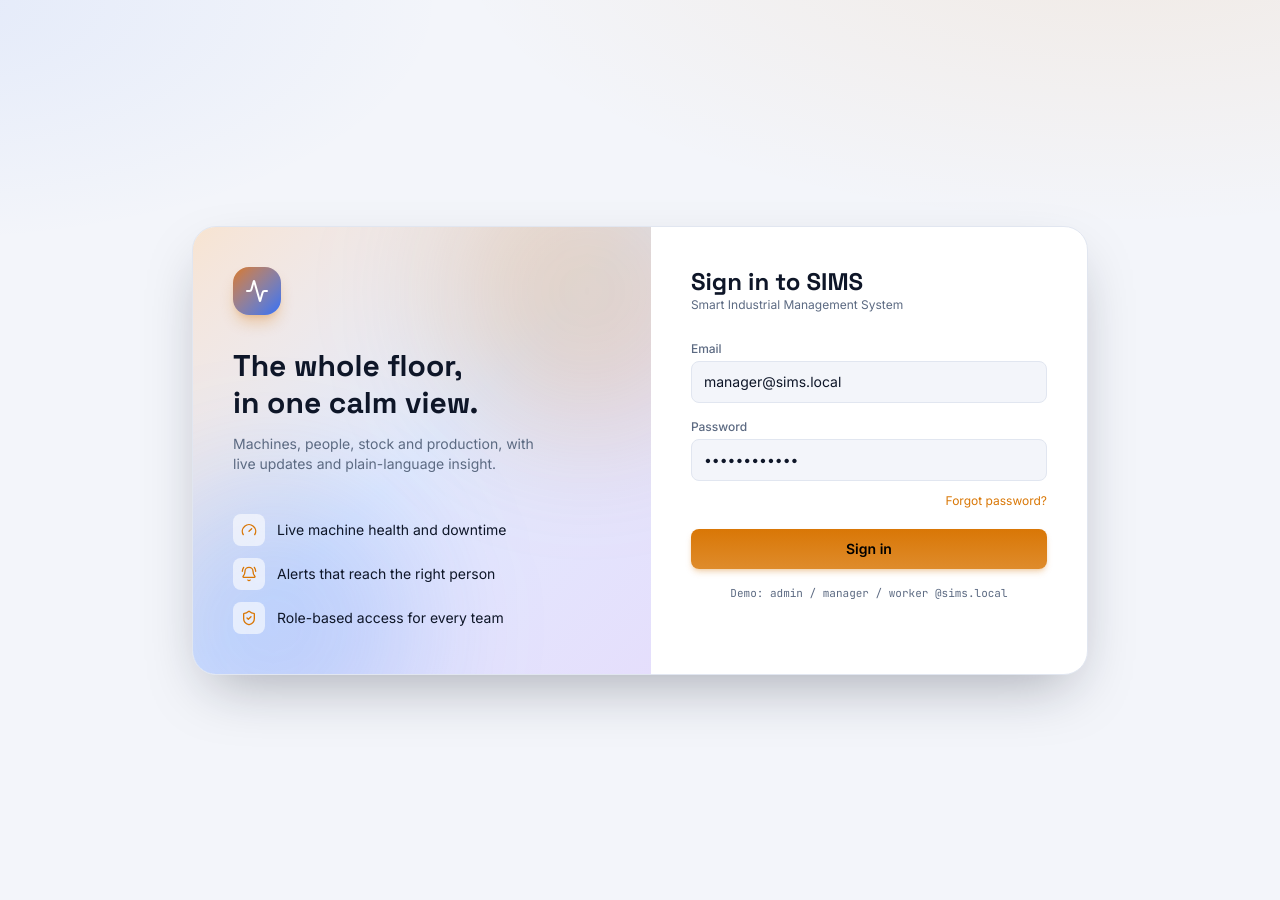
Test: Login › shows the server's reason when sign-in fails, and stays on the page
Click the button "Sign in" at (869, 548), box [691,528,1047,568]
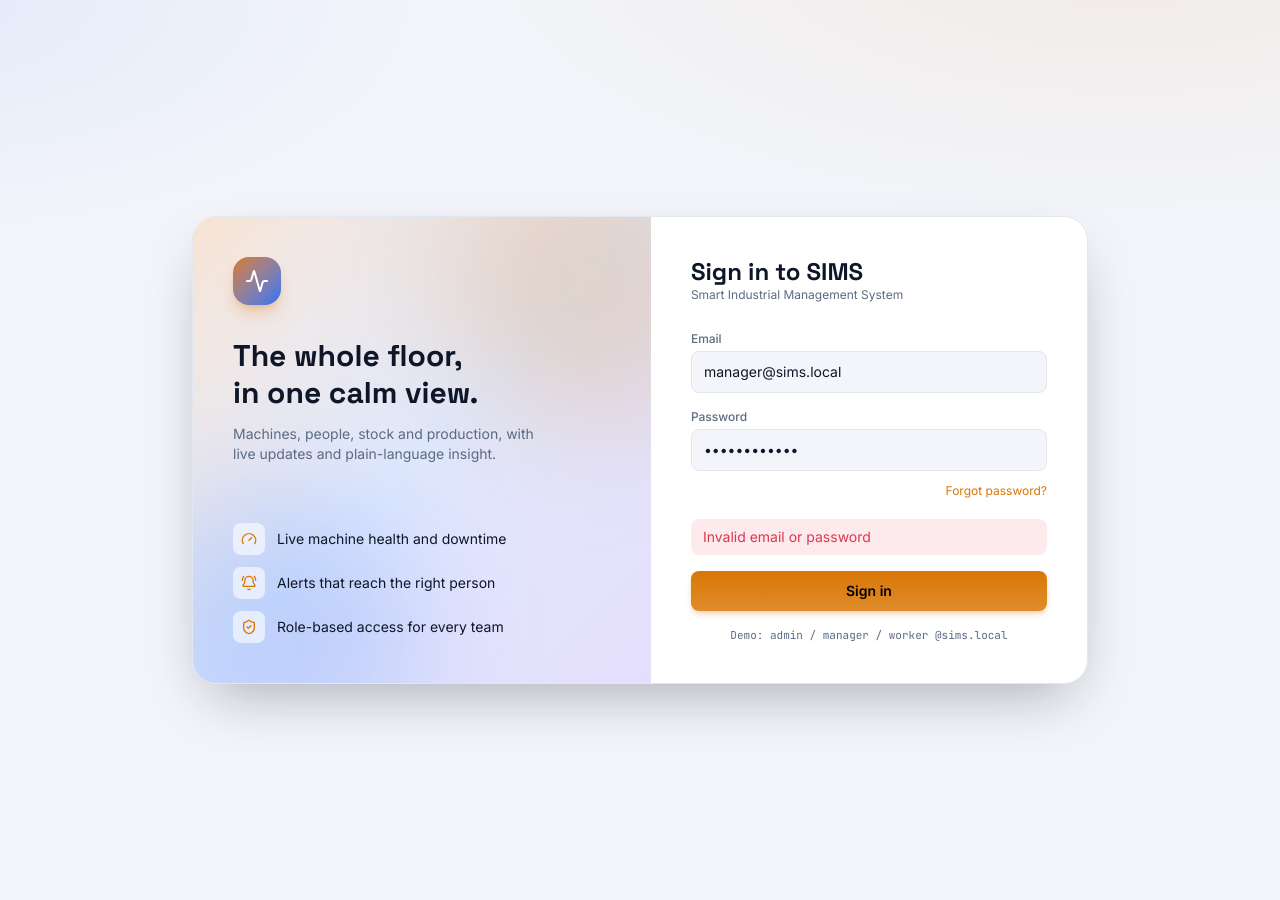
Check: the message reads "Invalid email or password", box [703,528,871,545]
